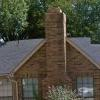Chimney: (38, 3, 72, 76)
